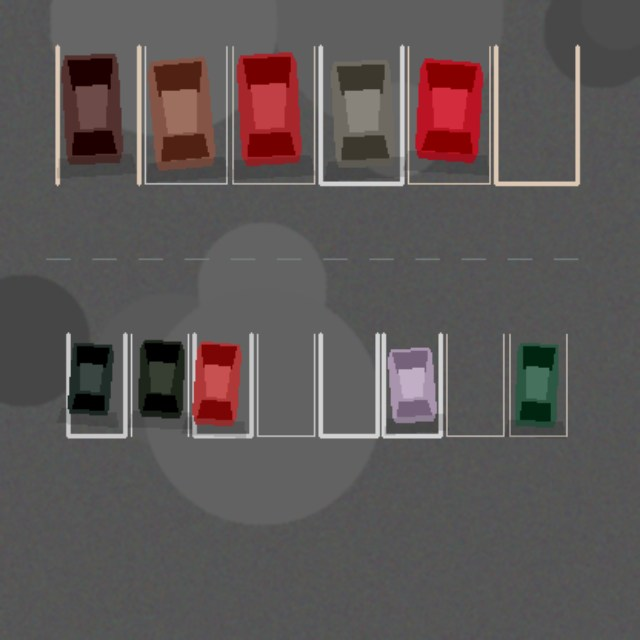space-empty: (495, 46, 577, 183), (257, 334, 314, 435), (320, 334, 377, 435), (446, 334, 503, 435)
space-occupied: (232, 46, 314, 183), (320, 46, 402, 183), (57, 46, 138, 183), (145, 46, 226, 183), (408, 46, 489, 183), (68, 334, 125, 435), (131, 334, 188, 435), (194, 334, 251, 435), (383, 334, 440, 435), (509, 334, 566, 435)
